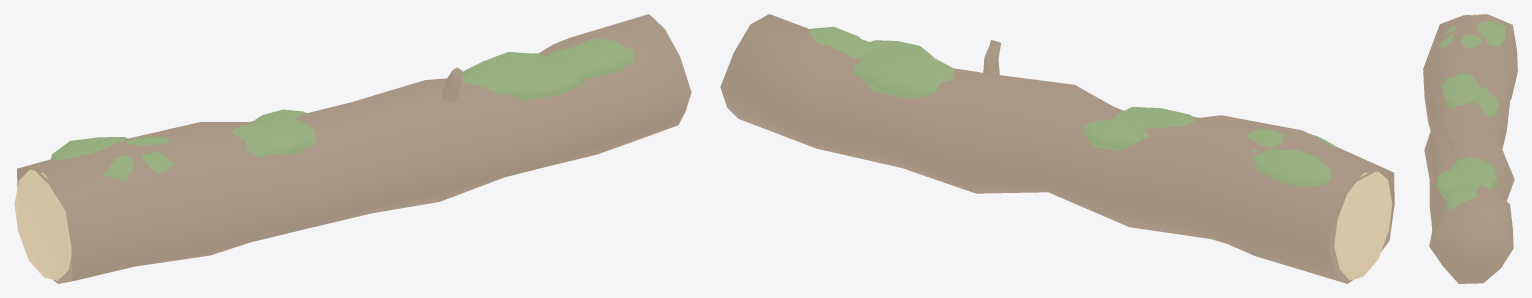
Rendered from Blender_Log_1.glb.
The picture shows the model from 3 angles, left to right: view 1: azimuth 30°, elevation 25°; view 2: azimuth 150°, elevation 25°; view 3: azimuth 270°, elevation 25°; orthographic projection. The views are drawn at different scales.
Visible parts, largest first — view 1: Blender_Log_1; view 2: Blender_Log_1; view 3: Blender_Log_1.
Boxes of the visible parts, <box> form: Blender_Log_1: <box>14,14,691,283</box>; Blender_Log_1: <box>720,14,1394,283</box>; Blender_Log_1: <box>1423,14,1517,283</box>.
Bounding box in the file's own units: 6.12 × 1.28 × 1.18.
